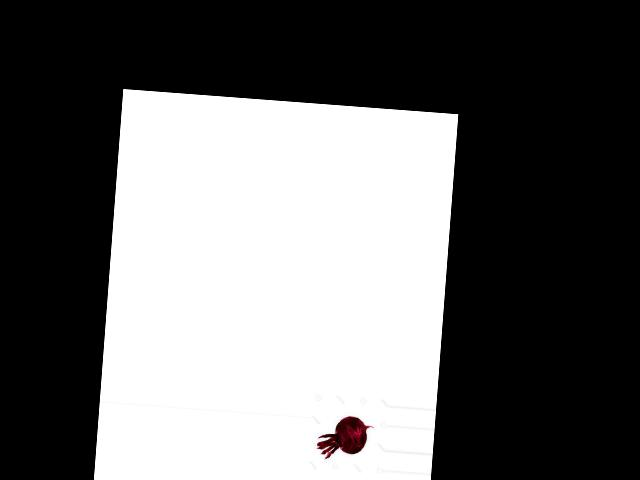beet: (316, 413, 375, 462)
